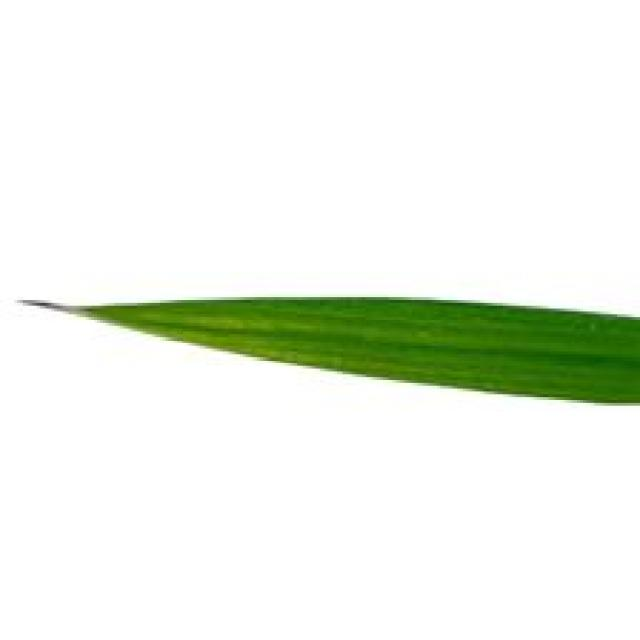Rice___Healthy_Rice_Plant: (21, 299, 640, 404)
